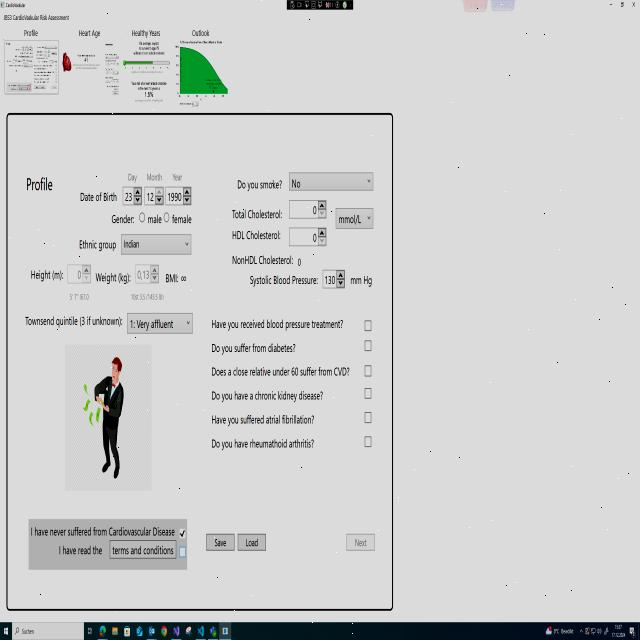button: (106, 539, 177, 562), (203, 528, 236, 554), (238, 529, 268, 555), (344, 529, 376, 553), (615, 0, 628, 11), (628, 0, 640, 11), (604, 0, 616, 10)
checkbox: (361, 429, 375, 455), (361, 314, 375, 337), (356, 341, 374, 356), (363, 409, 374, 427), (362, 386, 374, 402), (363, 362, 373, 379), (179, 525, 189, 541), (179, 544, 186, 558)
dropdownMenu: (288, 168, 377, 196), (120, 230, 193, 259), (126, 306, 195, 334), (333, 203, 377, 234), (554, 627, 584, 636)
icon: (160, 625, 168, 637), (172, 625, 180, 637), (629, 626, 636, 639), (99, 625, 106, 637), (210, 626, 217, 638), (185, 626, 192, 637), (197, 625, 204, 636), (545, 625, 552, 636), (124, 626, 130, 638), (136, 626, 142, 637), (112, 626, 118, 636), (149, 626, 155, 636), (222, 627, 228, 635), (590, 628, 596, 636), (596, 627, 602, 635), (585, 627, 590, 636), (88, 626, 92, 636), (604, 627, 608, 636), (4, 627, 8, 635)
input: (12, 621, 84, 640)
label: (200, 437, 320, 462), (209, 312, 346, 332), (20, 311, 122, 337), (207, 361, 354, 379), (209, 387, 329, 409), (26, 521, 175, 537), (207, 413, 325, 432), (204, 338, 300, 358), (241, 272, 319, 295), (18, 169, 66, 206), (16, 252, 64, 287), (232, 170, 287, 198), (226, 252, 301, 271), (226, 201, 286, 224), (226, 228, 284, 246), (55, 540, 104, 561), (0, 12, 70, 26), (70, 234, 117, 253), (94, 266, 132, 289), (76, 189, 119, 208), (125, 19, 165, 39), (72, 22, 108, 40), (183, 20, 216, 38), (350, 273, 378, 294), (162, 266, 190, 286), (107, 210, 137, 228), (128, 290, 166, 302), (61, 291, 92, 305), (119, 166, 139, 184), (145, 165, 165, 183), (172, 212, 196, 227), (168, 166, 186, 182), (20, 28, 40, 38), (146, 214, 162, 225)
menu: (0, 621, 640, 640)
radio: (138, 211, 146, 224), (163, 210, 170, 224)
upDown: (288, 224, 329, 250), (287, 198, 329, 222), (322, 265, 348, 293), (66, 260, 92, 286), (134, 260, 158, 286), (165, 184, 192, 207), (143, 185, 165, 208), (123, 185, 142, 205)
